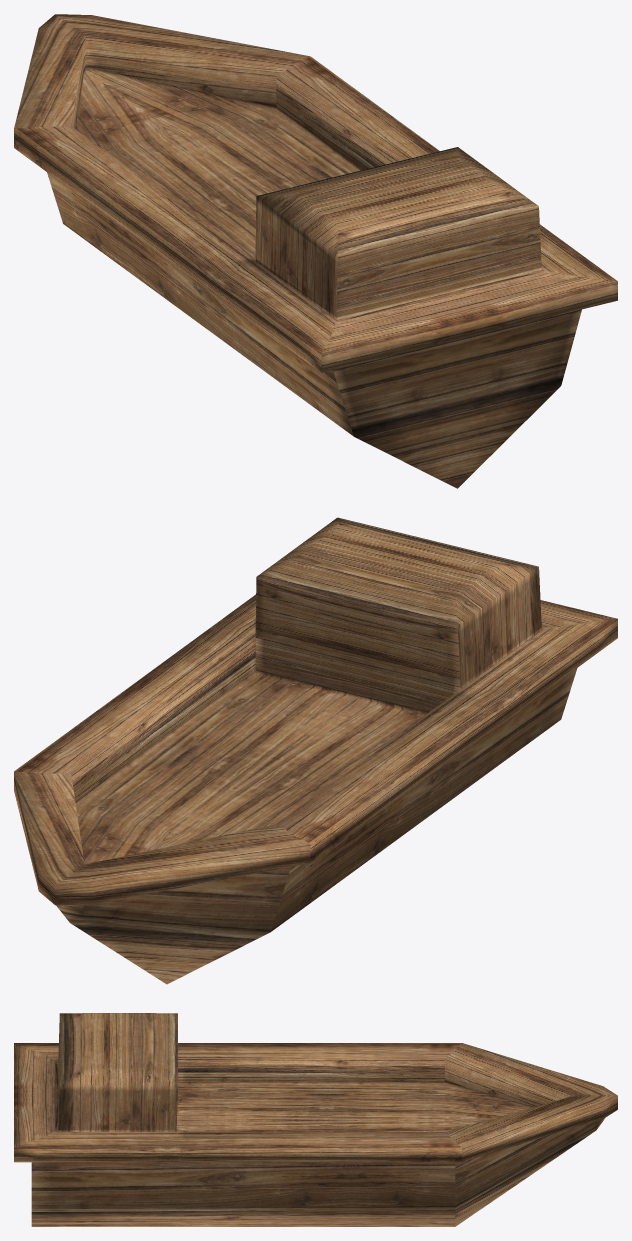
File: Boat.fbx
3 views of the same model, one above another, from view 1: azimuth 30°, elevation 25°; view 2: azimuth 150°, elevation 25°; view 3: azimuth 270°, elevation 25° (orthographic). The views are drawn at different scales.
Parts seen in each view (by area): view 1: Cube; view 2: Cube; view 3: Cube.
Boxes of the visible parts, box(x1,y1,x2,y2) form: Cube: box(14, 14, 617, 488); Cube: box(14, 517, 617, 984); Cube: box(14, 1013, 617, 1226).
Size of the model in its own units: 1351 by 1107 by 3270.
